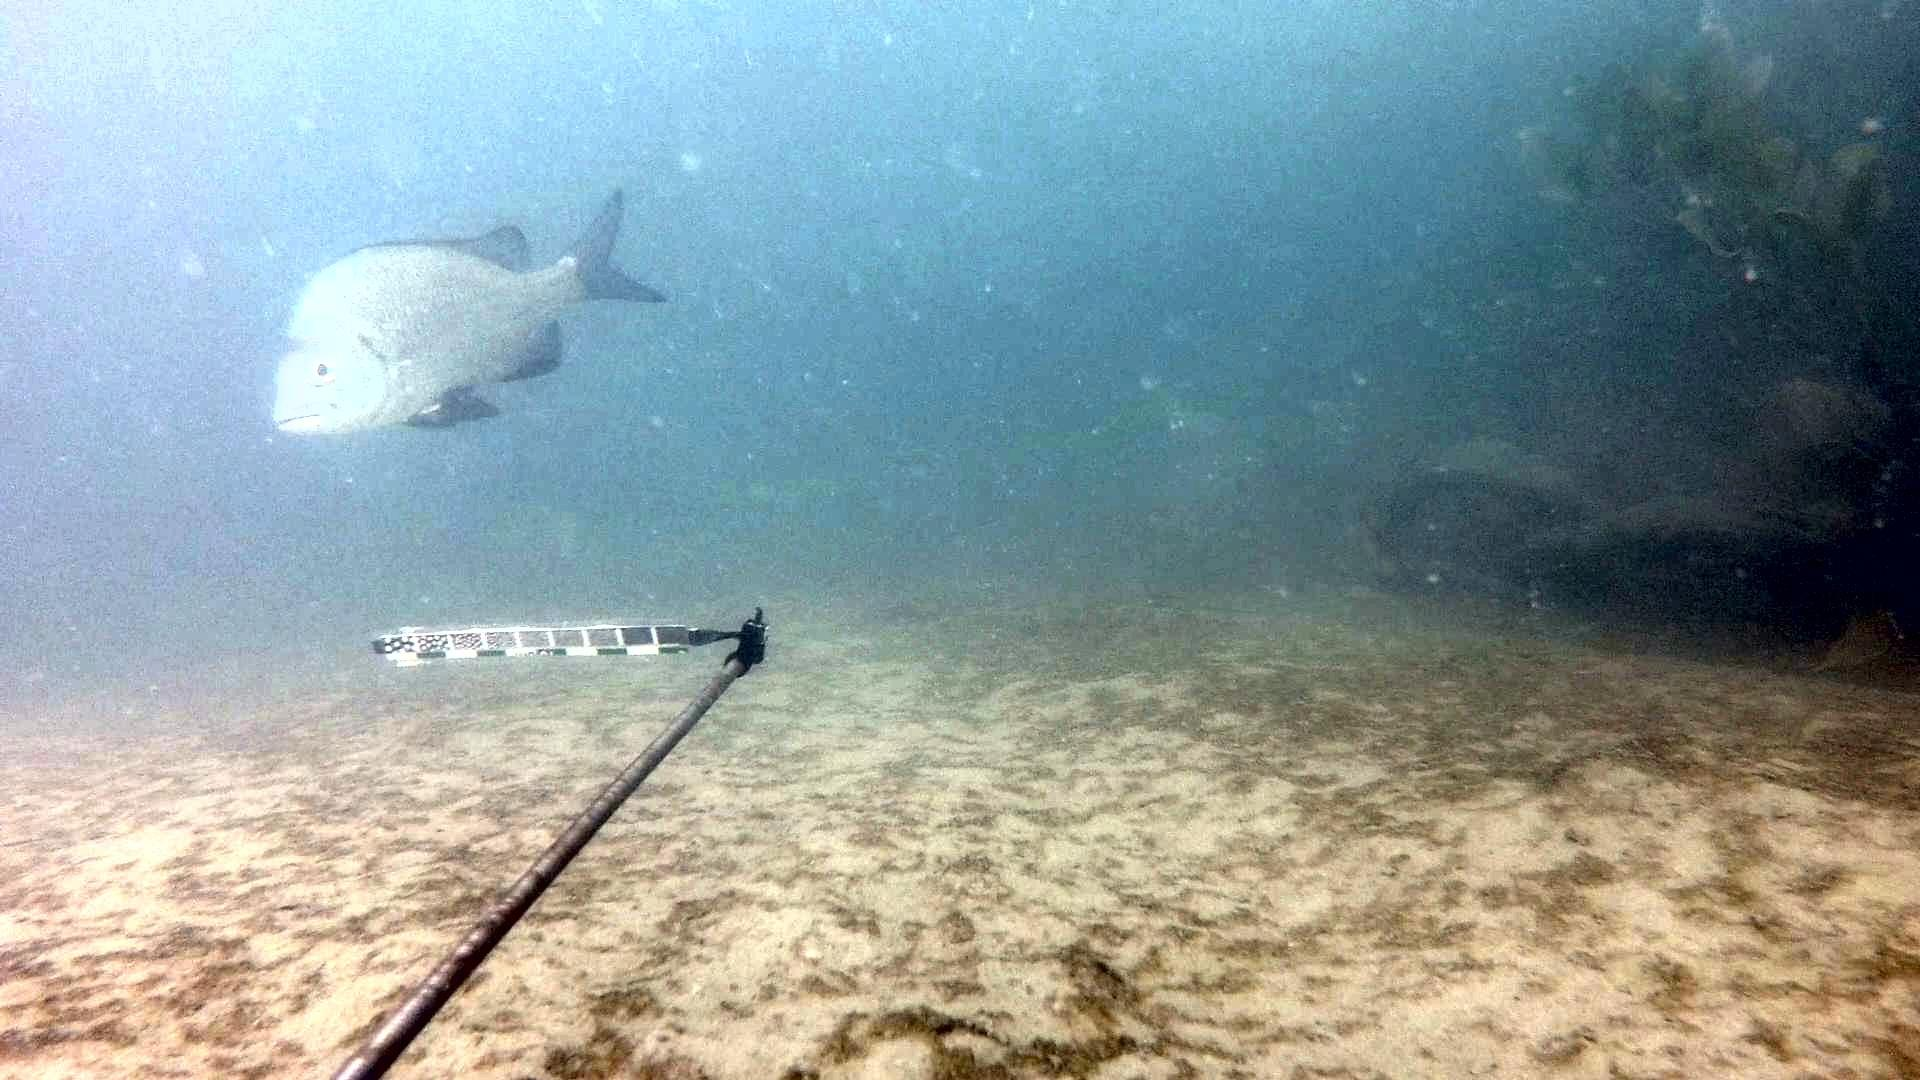acanthopagrus palmaris: (270, 178, 666, 448)
